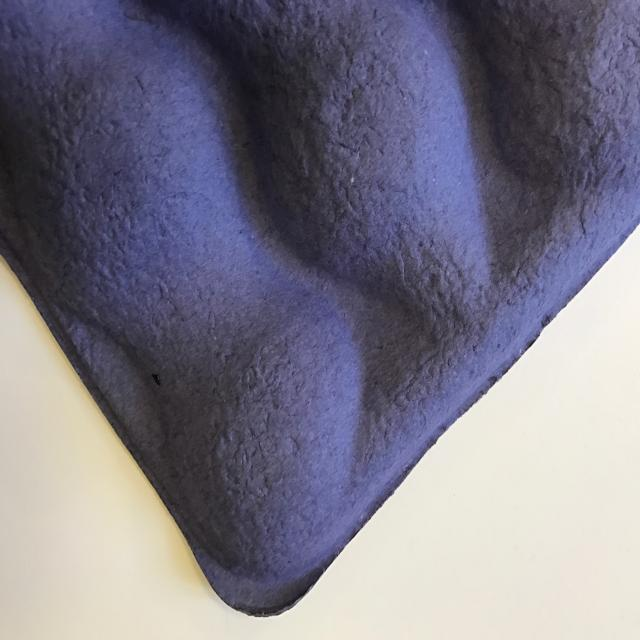paper: (0, 1, 640, 616)
